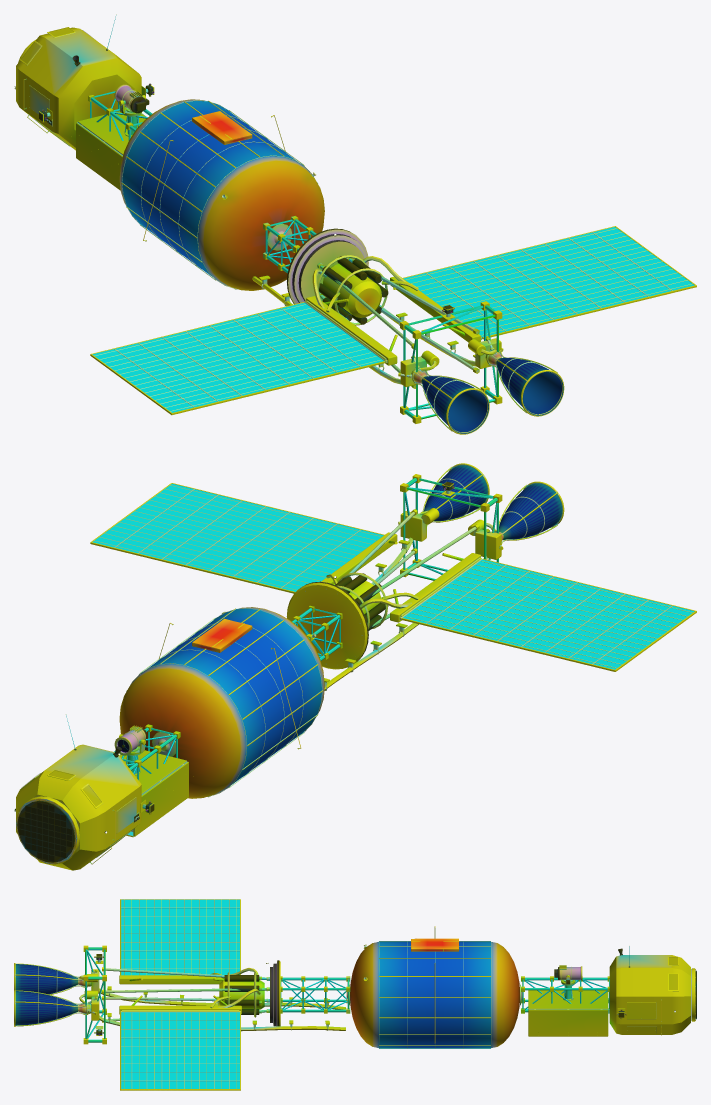
The model's file is gunship.glb.
3 views of the same model, one above another, from view 1: azimuth 30°, elevation 25°; view 2: azimuth 150°, elevation 25°; view 3: azimuth 270°, elevation 25° (orthographic). The views are drawn at different scales.
Visible parts, largest first — view 1: GUNSHIP_BODY, ENGINE_BELL_0, ENGINE_BELL_1; view 2: GUNSHIP_BODY, ENGINE_BELL_0, ENGINE_BELL_1; view 3: GUNSHIP_BODY, ENGINE_BELL_1, ENGINE_BELL_0, PD_0_EL.
Boxes of the visible parts, x1,y1,x2,y2 form: GUNSHIP_BODY: (14, 14, 696, 423); ENGINE_BELL_0: (411, 368, 489, 434); ENGINE_BELL_1: (485, 349, 564, 416); GUNSHIP_BODY: (14, 474, 696, 870); ENGINE_BELL_0: (496, 481, 564, 544); ENGINE_BELL_1: (418, 463, 489, 526); GUNSHIP_BODY: (79, 899, 696, 1090); ENGINE_BELL_1: (14, 990, 91, 1026); ENGINE_BELL_0: (14, 963, 91, 994); PD_0_EL: (554, 965, 582, 980).
Bounding box in the file's own units: 16.9 × 4.45 × 25.63.
